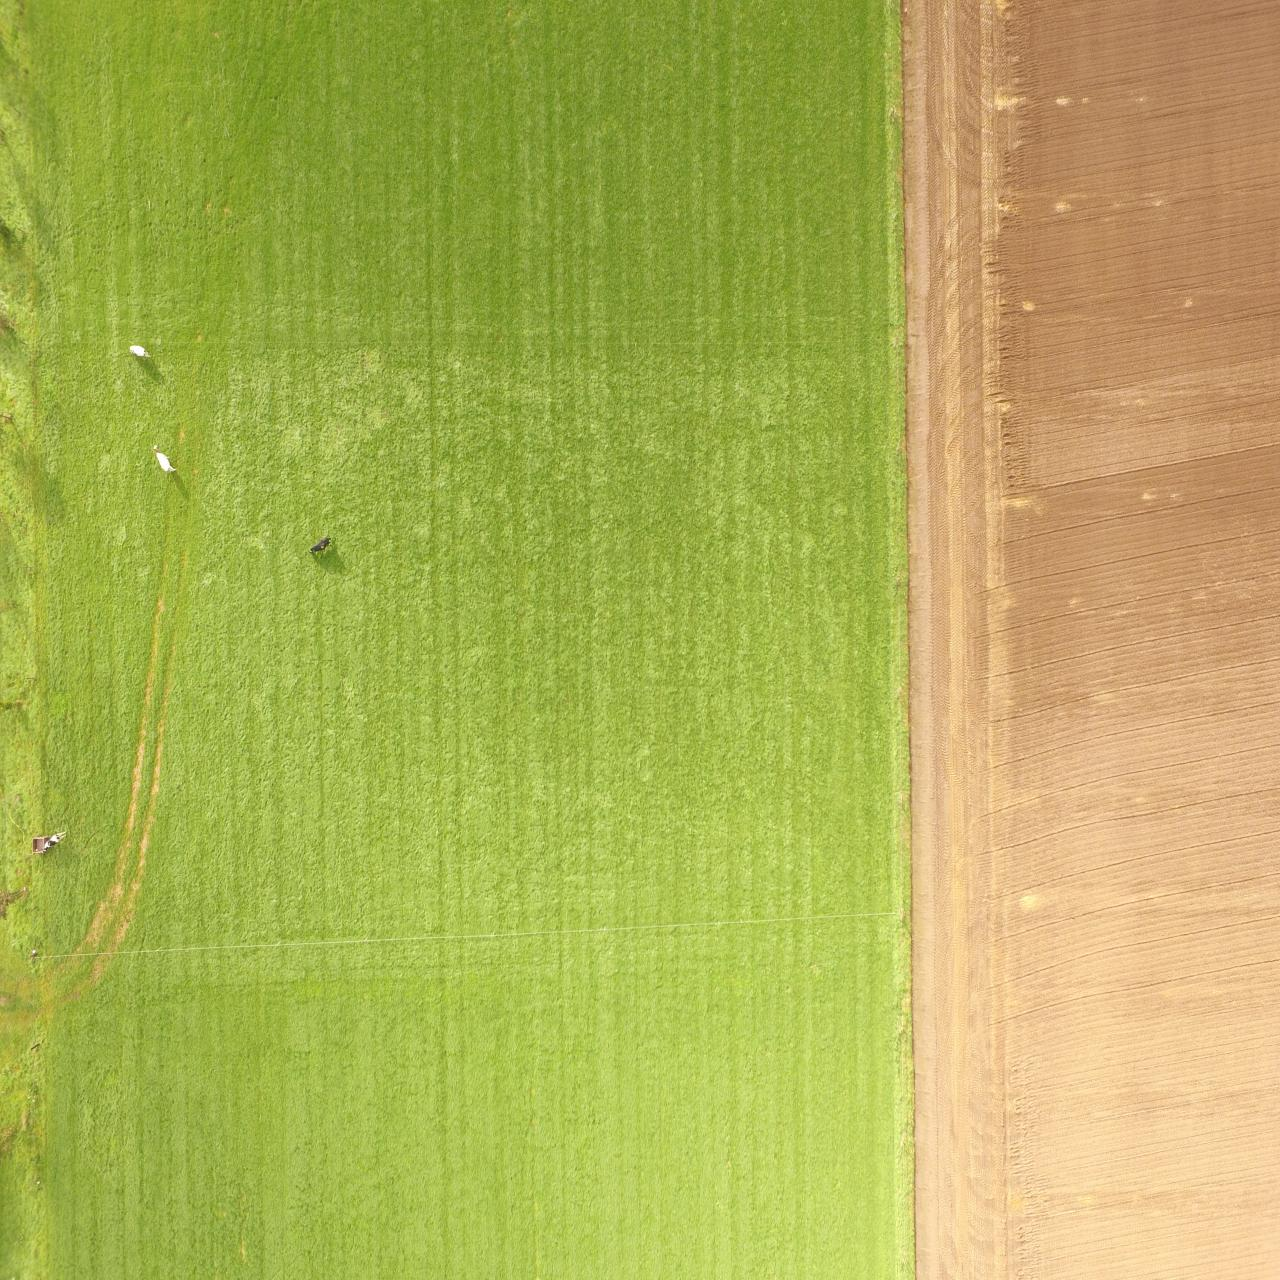cow: (26, 826, 67, 862), (149, 441, 179, 481), (305, 530, 334, 565), (125, 333, 151, 366)
